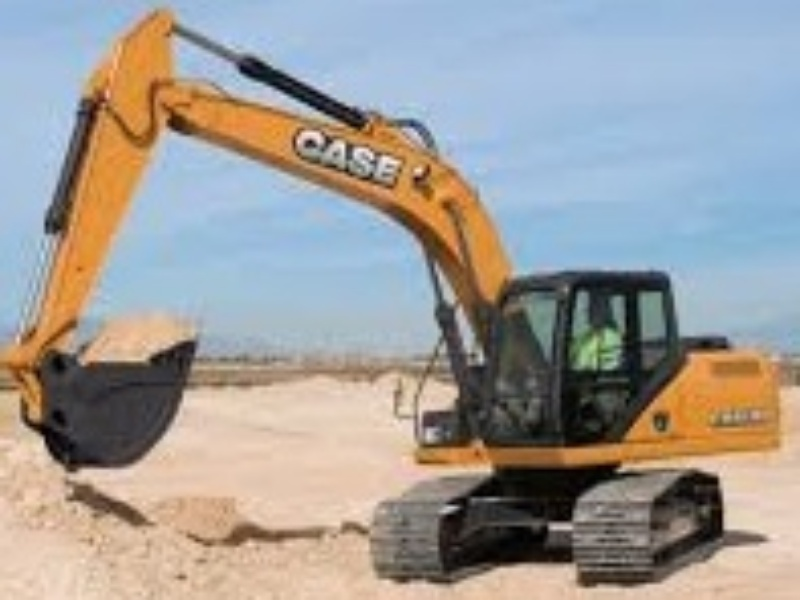wajueji: (295, 145, 794, 594)
